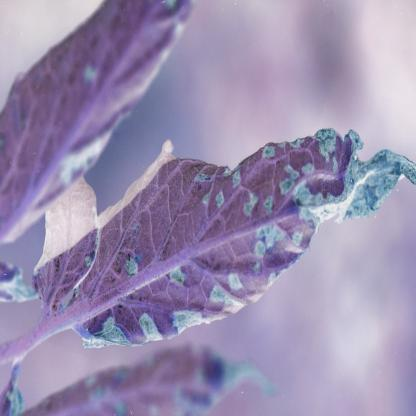tomato leaf bacterial spot: (34, 119, 411, 369)
